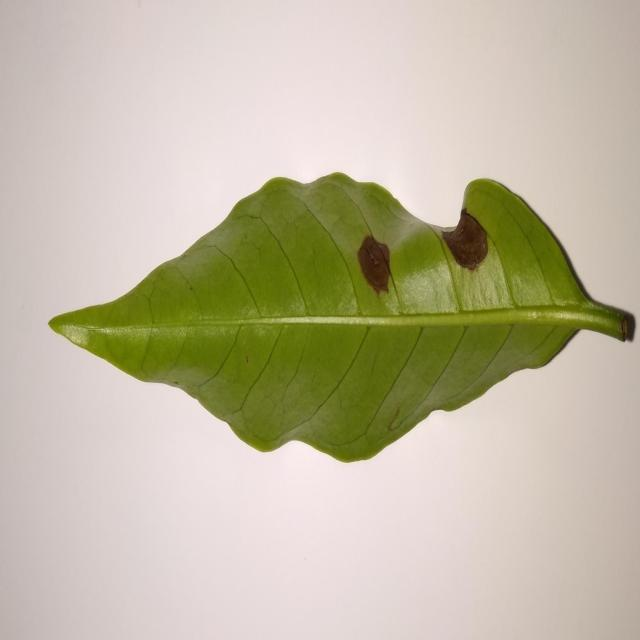Enfermedad-Antracnosis: (47, 173, 637, 466)
